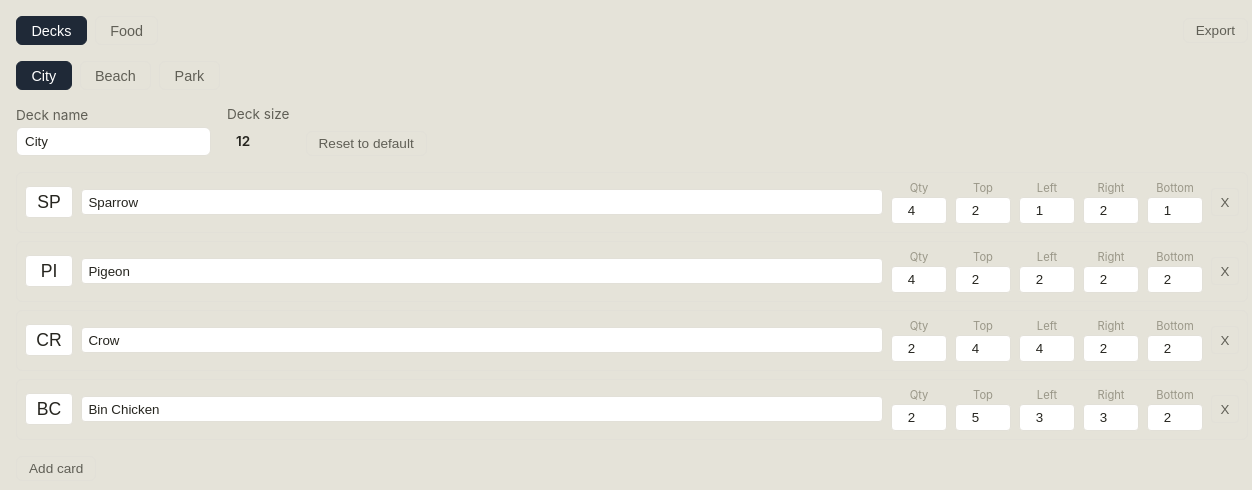
Test case: ManagePage › switches deck tabs and shows that deck name
The width and height of the screenshot is (1252, 490).
Click the tab "Beach" at (115, 76), box [80, 61, 151, 90]
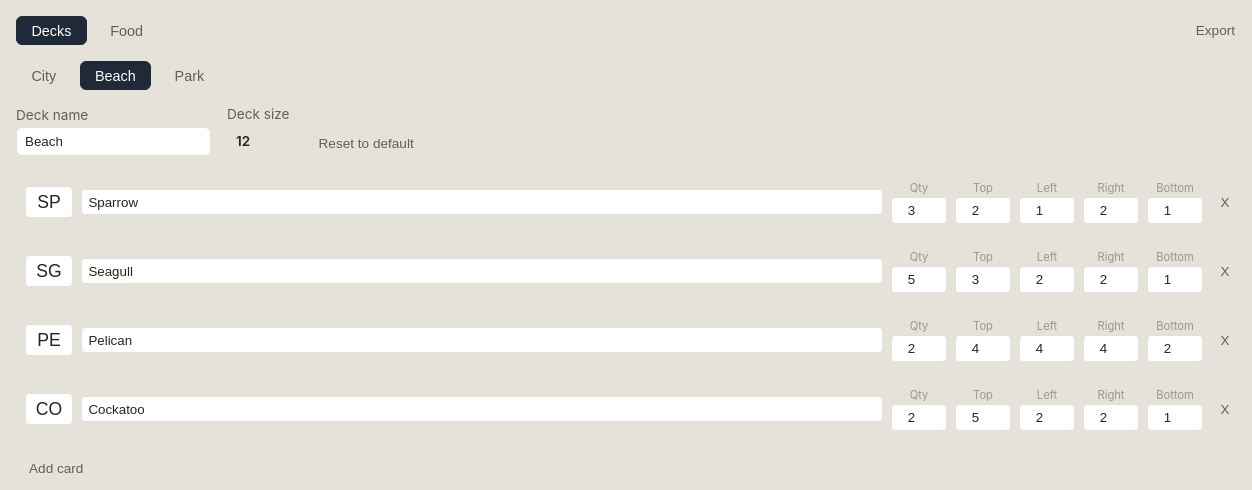
expect the field showing "Beach" is shown: met, box [16, 127, 211, 156]
